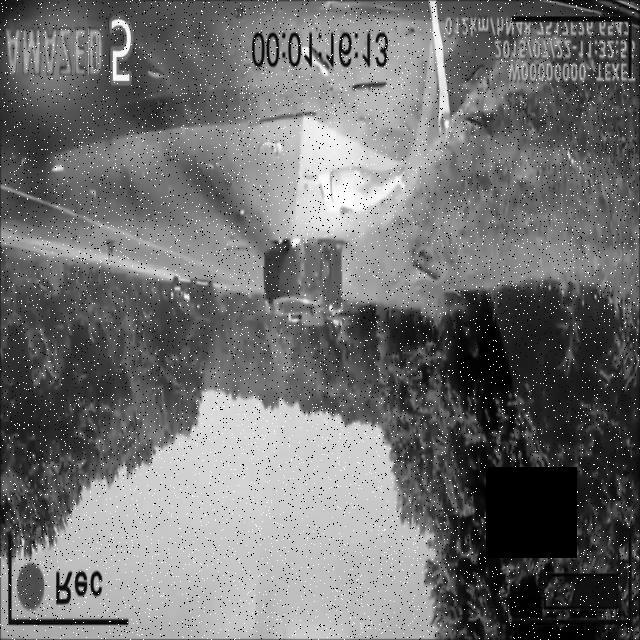severe: (260, 238, 348, 334)
